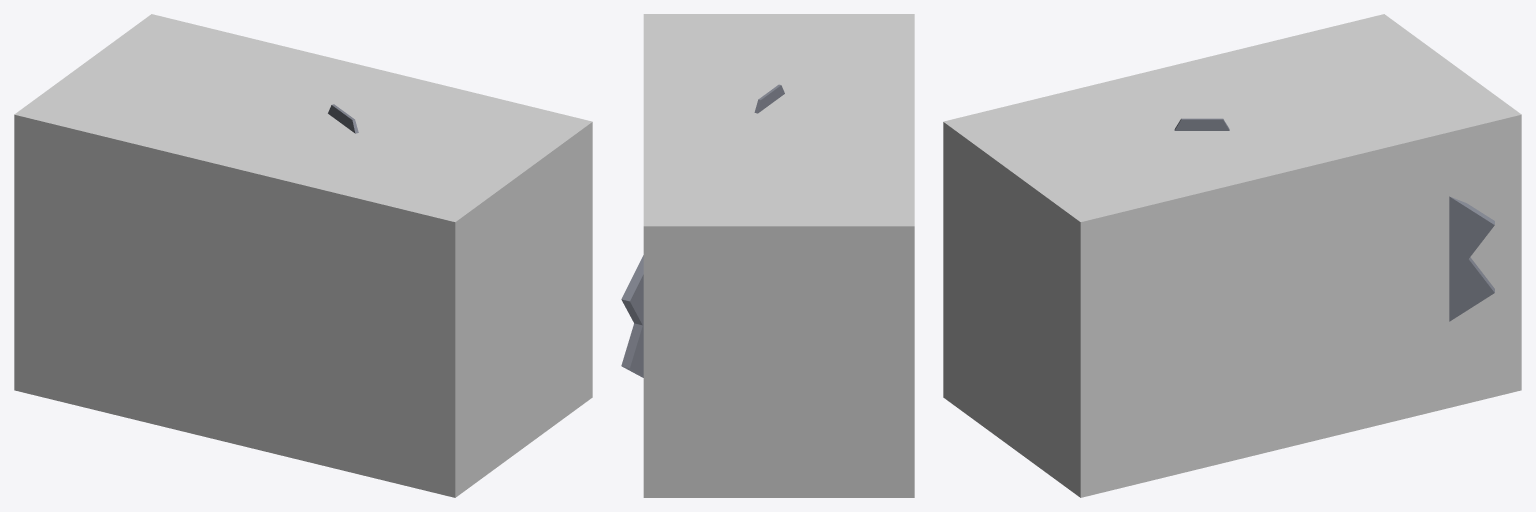
The model's file is jungle_piranha.fbx.
3 views of the same model, side by side, from view 1: azimuth 30°, elevation 25°; view 2: azimuth 150°, elevation 25°; view 3: azimuth 270°, elevation 25° (orthographic).
Parts seen in each view (by area): view 1: Root__0.00_1.25_0.47__2.26_2.50_4.19; view 2: Root__0.00_1.25_0.47__2.26_2.50_4.19, Tail__Body__0.00_1.25_1.30, Body__Root__0.00_1.25_0.00; view 3: Root__0.00_1.25_0.47__2.26_2.50_4.19, Tail__Body__0.00_1.25_1.30, Body__Root__0.00_1.25_0.00.
Boxes of the visible parts, <box> form: Root__0.00_1.25_0.47__2.26_2.50_4.19: <box>14,14,592,497</box>; Root__0.00_1.25_0.47__2.26_2.50_4.19: <box>643,14,914,497</box>; Tail__Body__0.00_1.25_1.30: <box>621,255,643,377</box>; Body__Root__0.00_1.25_0.00: <box>754,84,784,113</box>; Root__0.00_1.25_0.47__2.26_2.50_4.19: <box>943,14,1521,497</box>; Tail__Body__0.00_1.25_1.30: <box>1449,196,1494,321</box>; Body__Root__0.00_1.25_0.00: <box>1174,118,1229,130</box>.
Size of the model in its own units: 113 by 72.8 by 133.
Materials: 1 (1 with a texture image).
